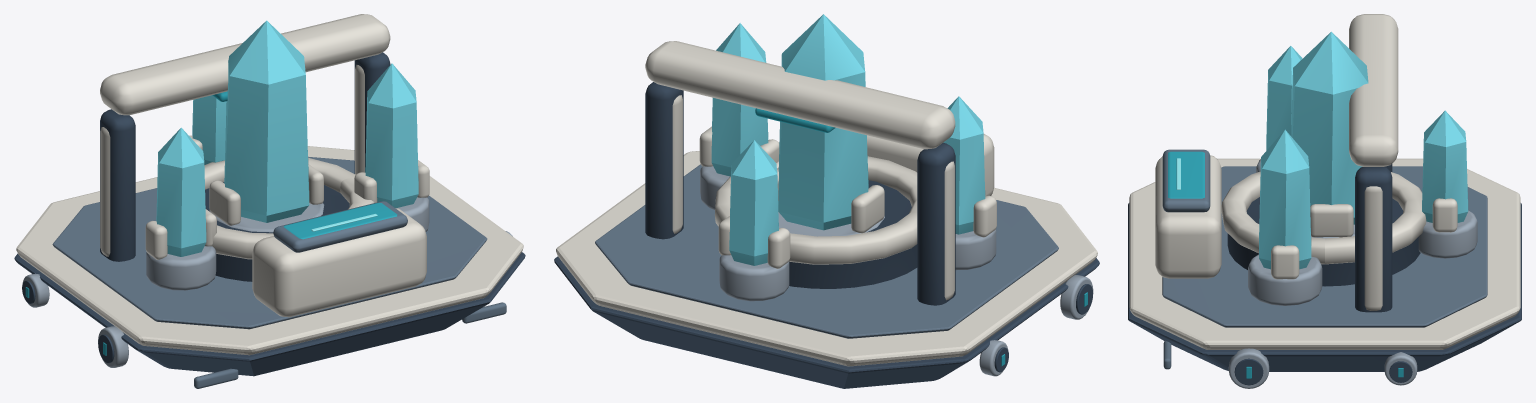
File: crystal_refinery_lv4.glb
3 views of the same model, side by side, from view 1: azimuth 30°, elevation 25°; view 2: azimuth 150°, elevation 25°; view 3: azimuth 270°, elevation 25° (orthographic). The views are drawn at different scales.
Parts seen in each view (by area): view 1: Structure; view 2: Structure; view 3: Structure.
Boxes of the visible parts, x1=… form: Structure: x1=14, y1=14, x2=525, y2=388; Structure: x1=554, y1=14, x2=1099, y2=388; Structure: x1=1128, y1=14, x2=1521, y2=388.
Size of the model in its own units: 7.32 by 4.71 by 6.23.
